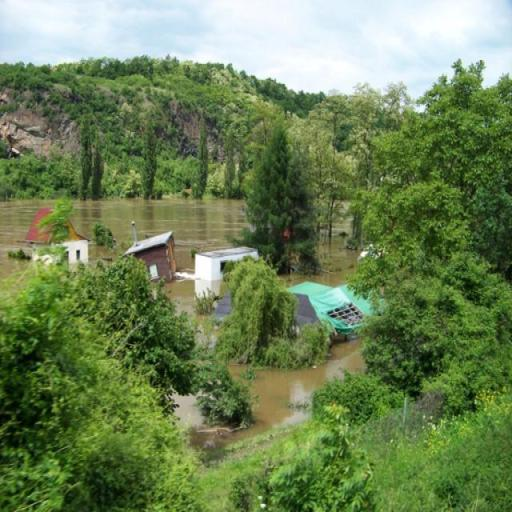flood: (194, 337, 365, 448), (71, 200, 249, 272), (284, 208, 361, 286), (0, 201, 53, 281), (164, 280, 194, 312), (176, 398, 202, 428)
house: (30, 210, 92, 262), (141, 229, 178, 284), (196, 245, 252, 279)
